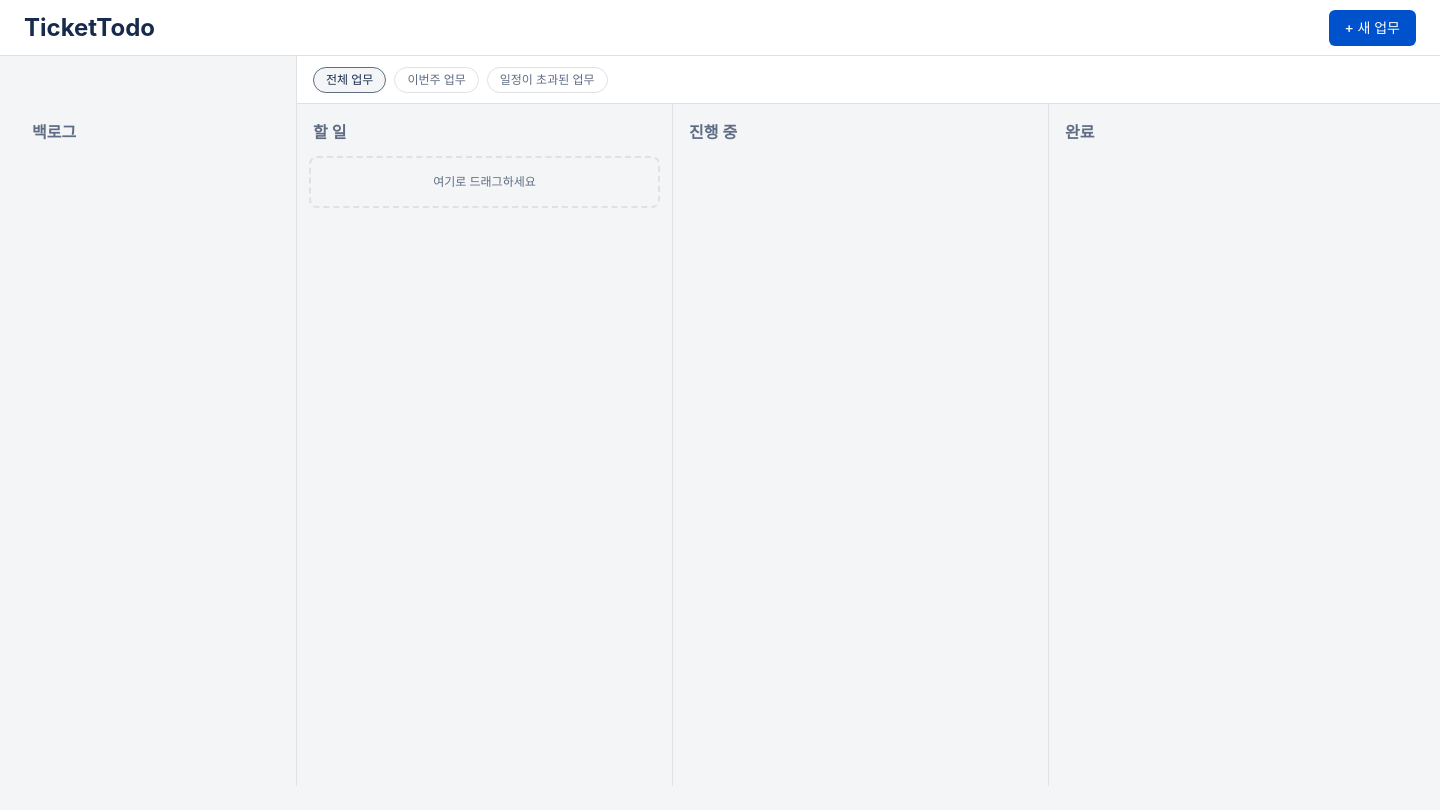
Test: 시나리오 A — 새 티켓 생성 › TC-INT-003: 유효 입력 → Backlog 칼럼에 카드 추가
Expected: the list "백로그" is shown, left=32, top=122, right=76, bottom=142
Click the button "+ 새 업무". click: (1372,28)
box: left=1328, top=10, right=1416, bottom=46
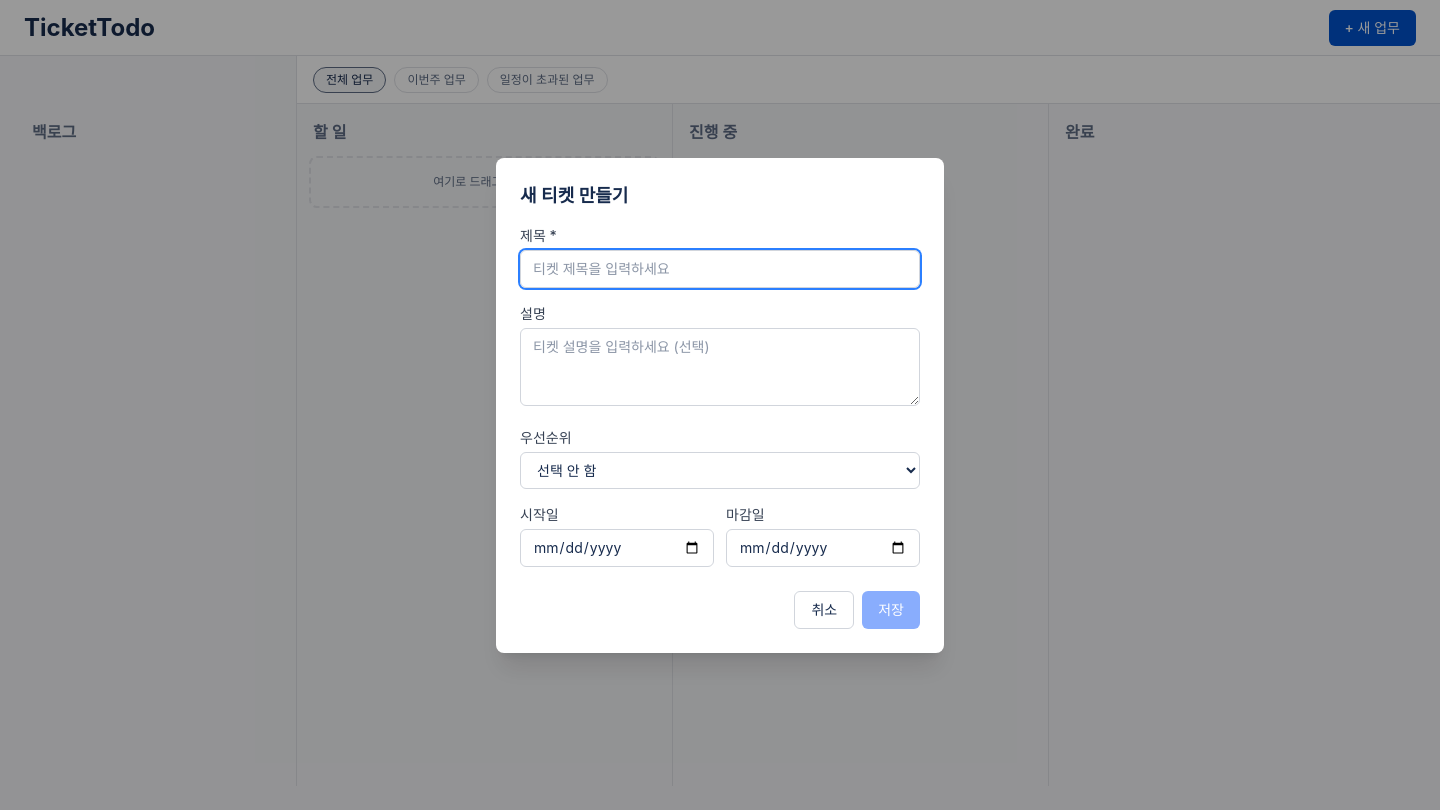
Type "새 통합 티켓" into the field labelled "제목 *". click: (720,268)
box: left=520, top=250, right=920, bottom=288
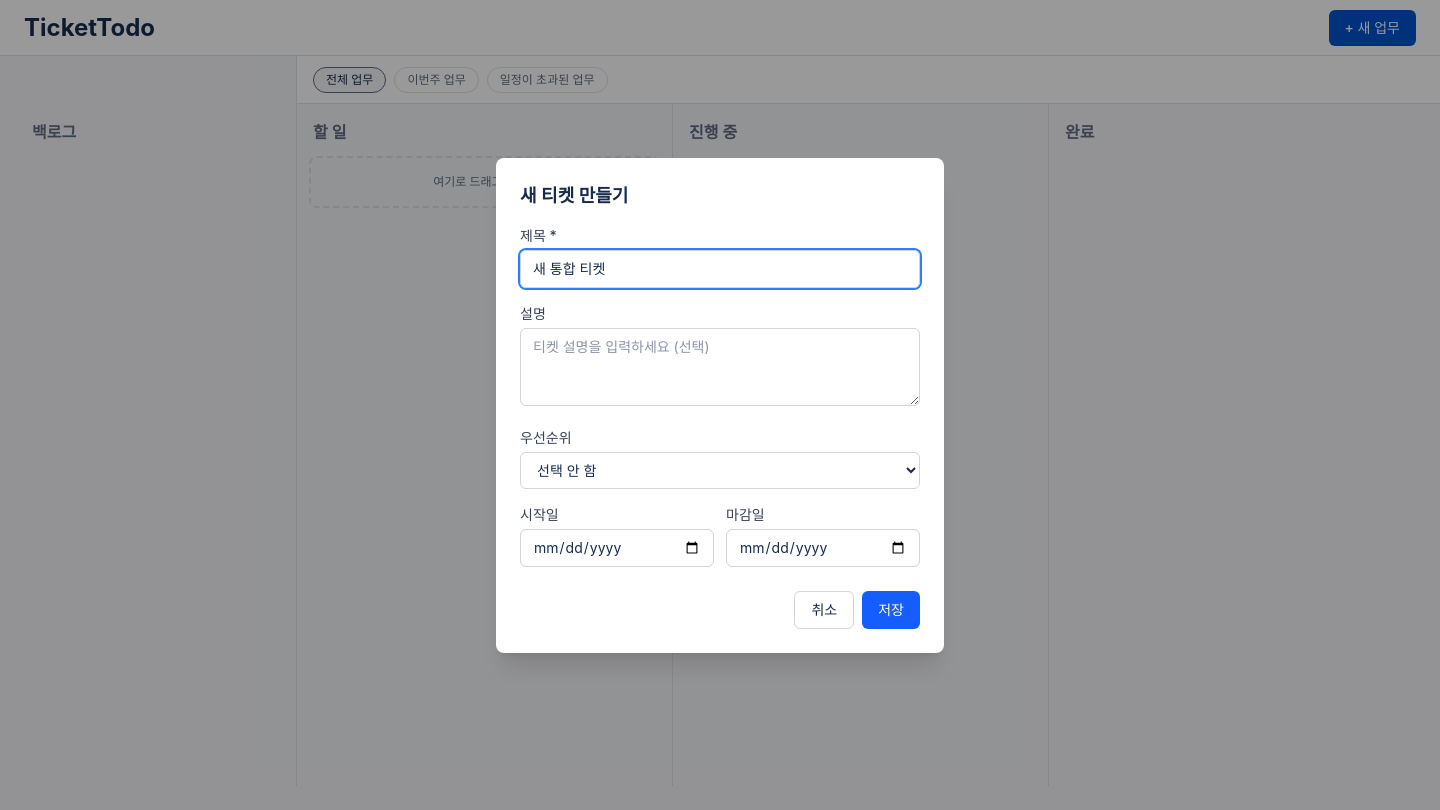
Click the button "저장". click: (891,610)
box: left=862, top=590, right=920, bottom=628
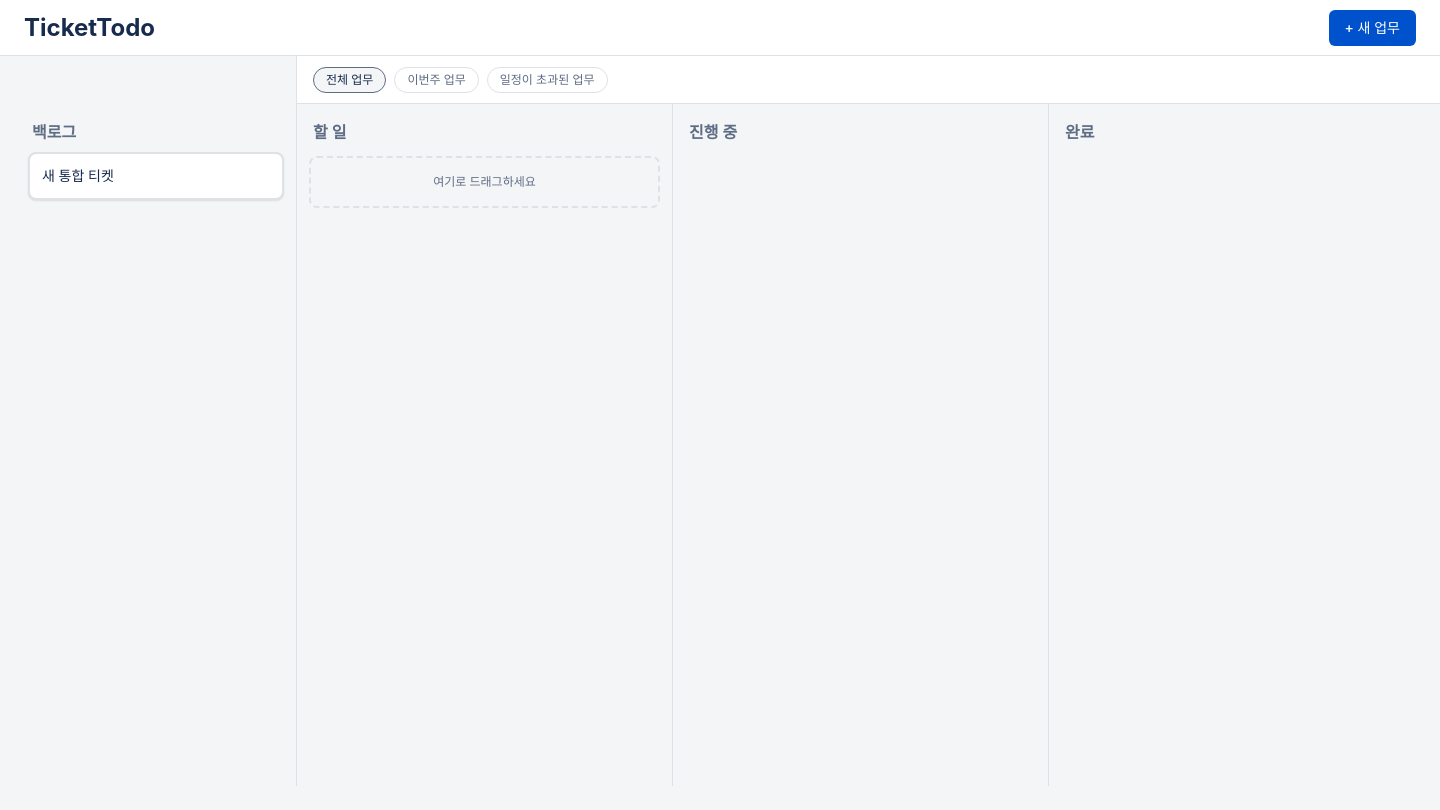
Result: the text "새 통합 티켓" is shown at left=42, top=167, right=114, bottom=184
